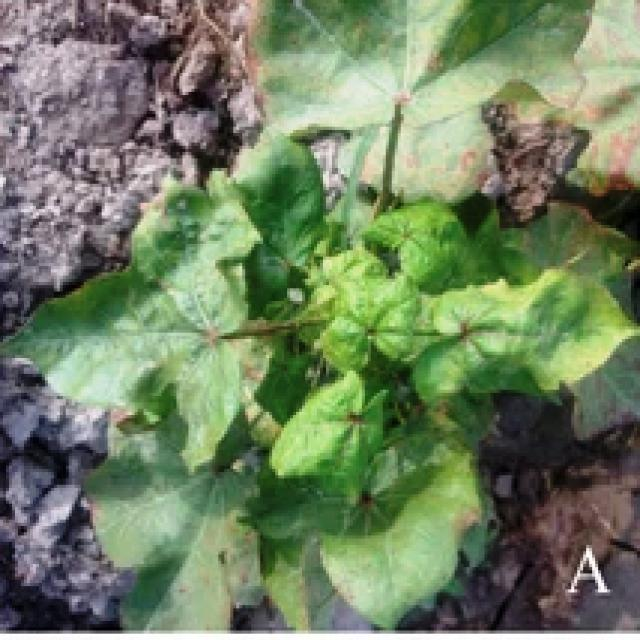Leaf Curl Virus: (132, 142, 509, 500)
